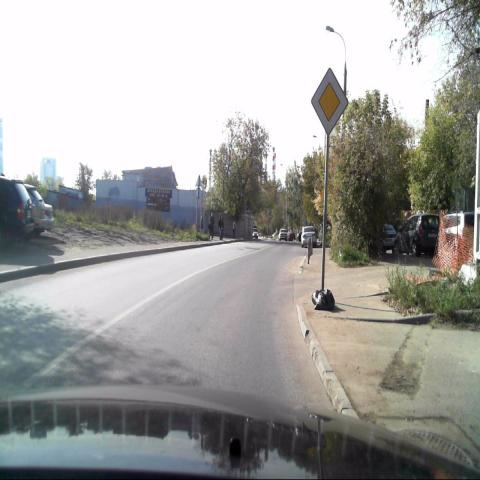2_1: (310, 66, 348, 137)
